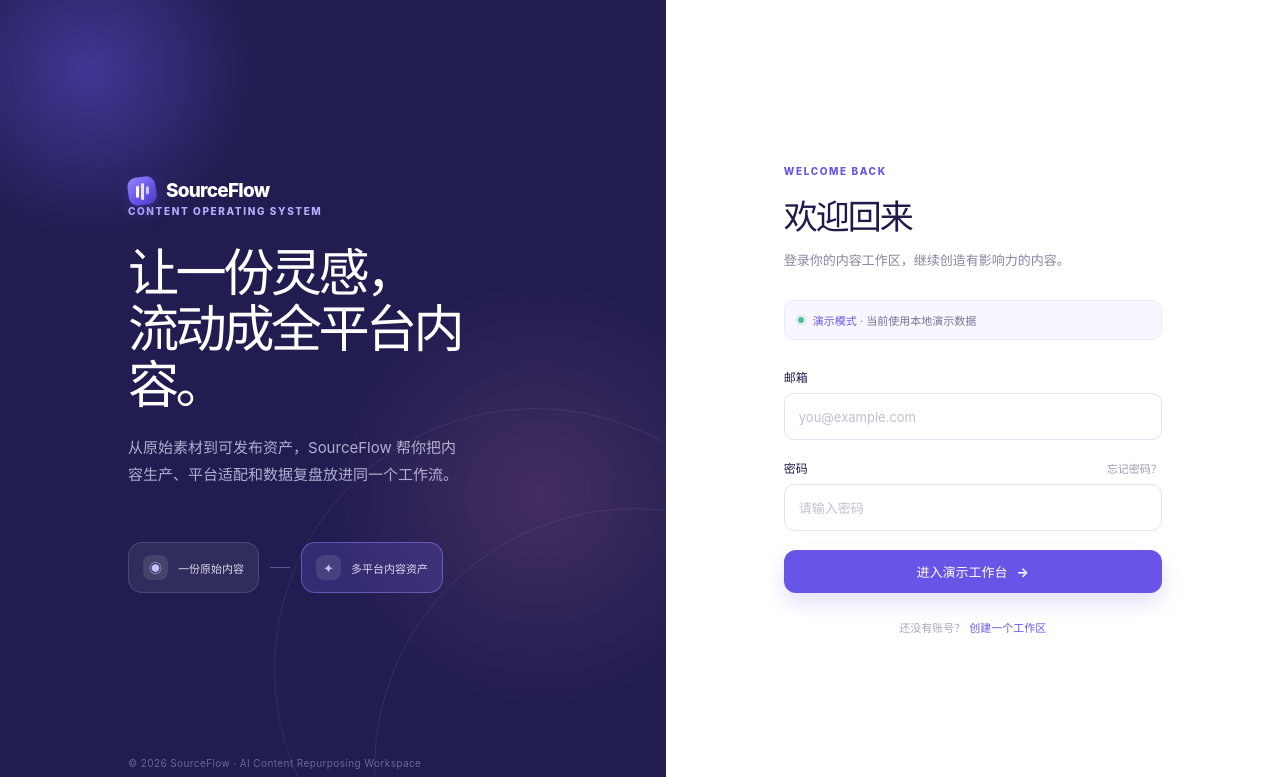
Test: SourceFlow Web 首屏 › 合法登录后进入内容经营工作台
In the field labelled "邮箱": coordinates (973, 416) [784,393,1162,440], type "creator@sourceflow.local"
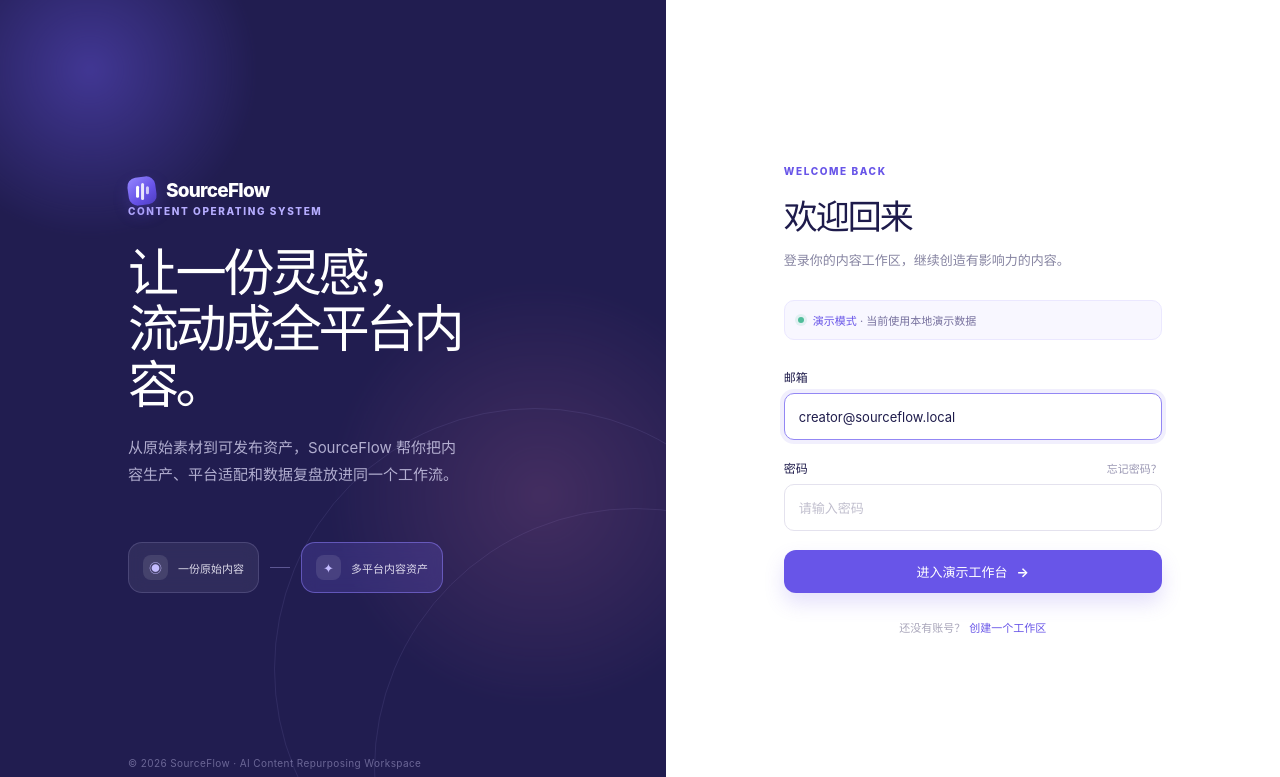
In the password field labelled "密码": coordinates (973, 508) [784,484,1162,531], type "sourceflow123"
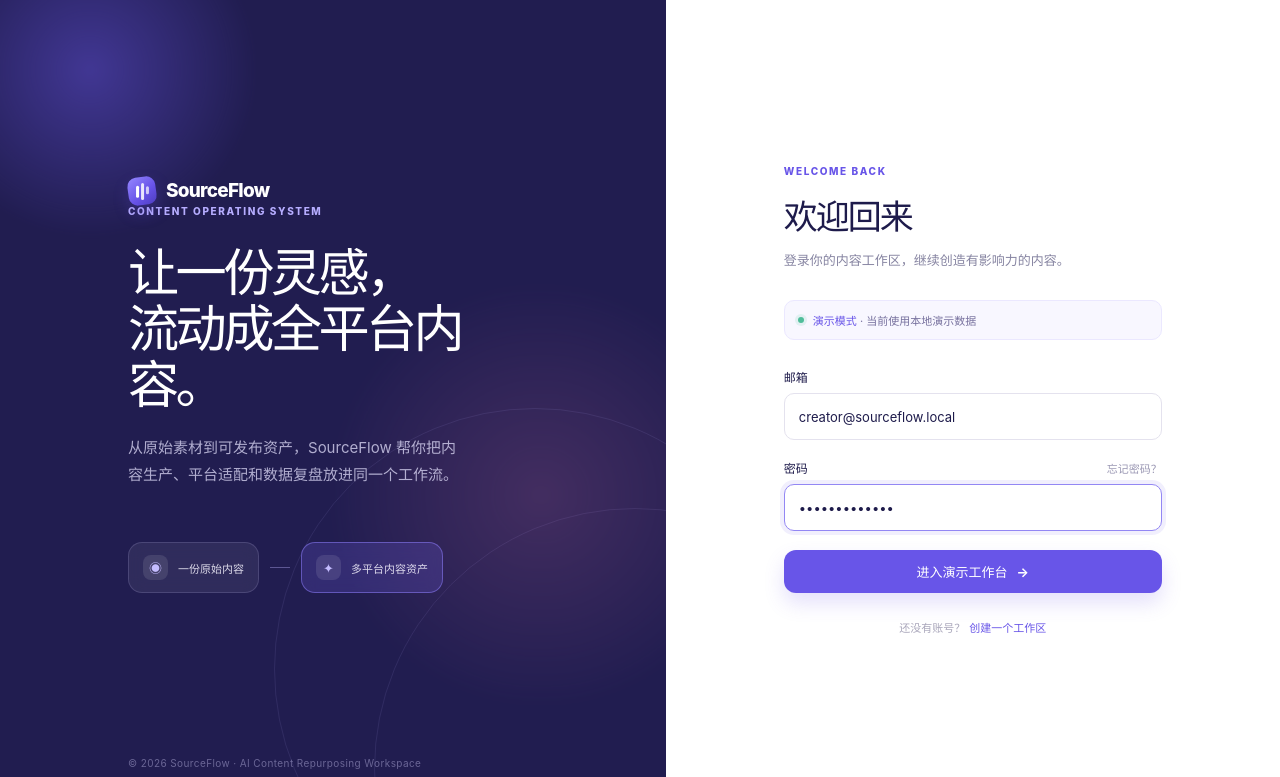
Click the button "进入演示工作台 →": coordinates (973, 572) [784,550,1162,593]
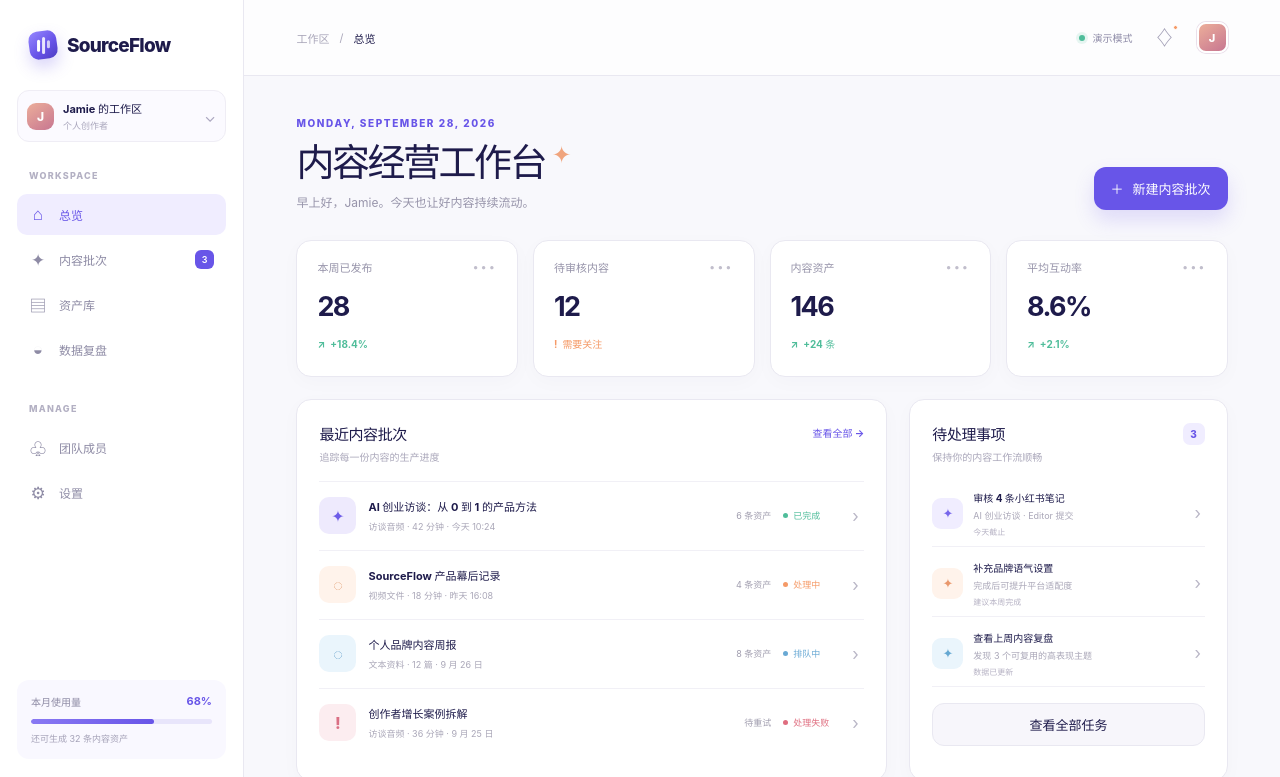
Result: the heading "内容经营工作台 ✦" is shown at [296,142,569,184]
Result: the heading "最近内容批次" is shown at [320,425,407,444]
Result: the button "＋ 新建内容批次" is shown at [1094,167,1228,210]
